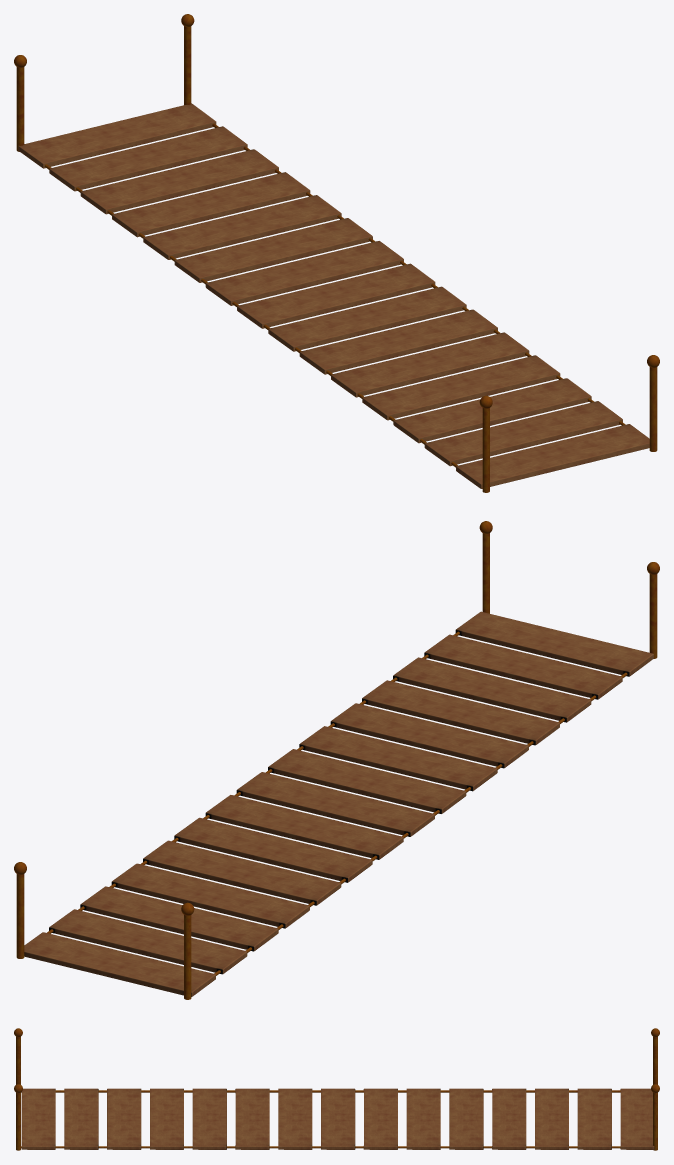
The model's file is Bridge15Planks.fbx.
The picture shows the model from 3 angles, top to bottom: view 1: azimuth 30°, elevation 25°; view 2: azimuth 150°, elevation 25°; view 3: azimuth 270°, elevation 25°; orthographic projection. The views are drawn at different scales.
Visible parts, largest first — view 1: Planks, Rails; view 2: Planks, Rails; view 3: Planks, Rails, Planks.001, Rails.001.
Part boxes in pixels (left/top/right/bottom): Planks: left=18, top=103, right=649, bottom=488; Rails: left=16, top=26, right=657, bottom=492; Planks: left=24, top=611, right=653, bottom=996; Rails: left=16, top=533, right=657, bottom=999; Planks: left=21, top=1088, right=654, bottom=1149; Rails: left=16, top=1036, right=657, bottom=1150; Planks.001: left=20, top=1090, right=620, bottom=1148; Rails.001: left=14, top=1028, right=659, bottom=1092.
Bounding box in the file's own units: 308 × 157 × 1411.
Materials: 2 (2 with a texture image).
